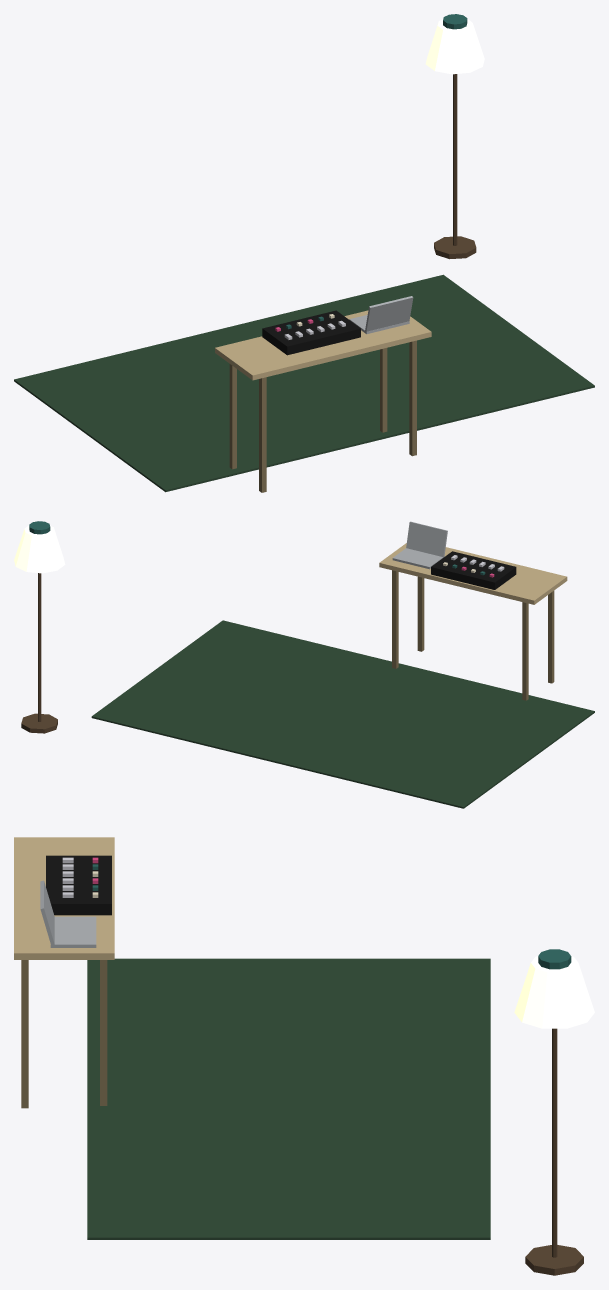
The model's file is lwf_stage_set_electronic_v1.glb.
3 views of the same model, one above another, from view 1: azimuth 30°, elevation 25°; view 2: azimuth 150°, elevation 25°; view 3: azimuth 270°, elevation 25° (orthographic). The views are drawn at different scales.
Parts seen in each view (by area): view 1: Rug, Props, LampShade; view 2: Rug, Props, LampShade; view 3: Rug, Props, LampShade.
Boxes of the visible parts, left/top/right/bottom form: Rug: left=14, top=274, right=594, bottom=492; Props: left=215, top=14, right=476, bottom=492; LampShade: left=425, top=19, right=484, bottom=74; Rug: left=91, top=620, right=594, bottom=808; Props: left=21, top=521, right=567, bottom=733; LampShade: left=14, top=525, right=65, bottom=573; Rug: left=87, top=958, right=490, bottom=1239; Props: left=14, top=837, right=583, bottom=1275; LampShade: left=514, top=956, right=594, bottom=1028.
Size of the model in its own units: 4.11 by 1.85 by 3.17.
Materials: 3 (1 with a texture image).
